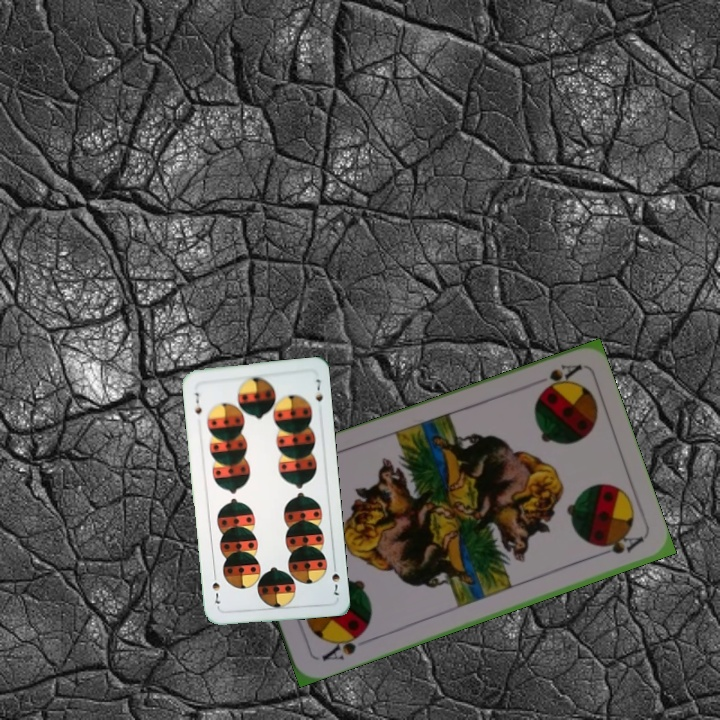S7: (327, 559, 342, 599), (190, 388, 204, 416)
SA: (317, 626, 368, 664), (535, 360, 583, 395)
